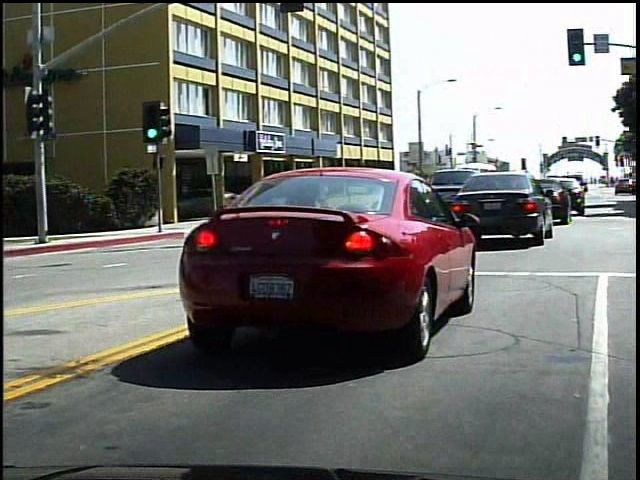person: (273, 181, 291, 218)
